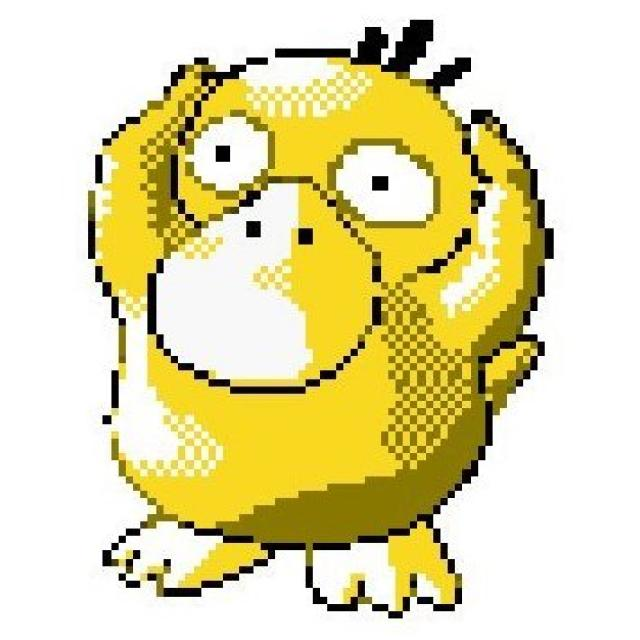Psyduck: (98, 54, 510, 599)
